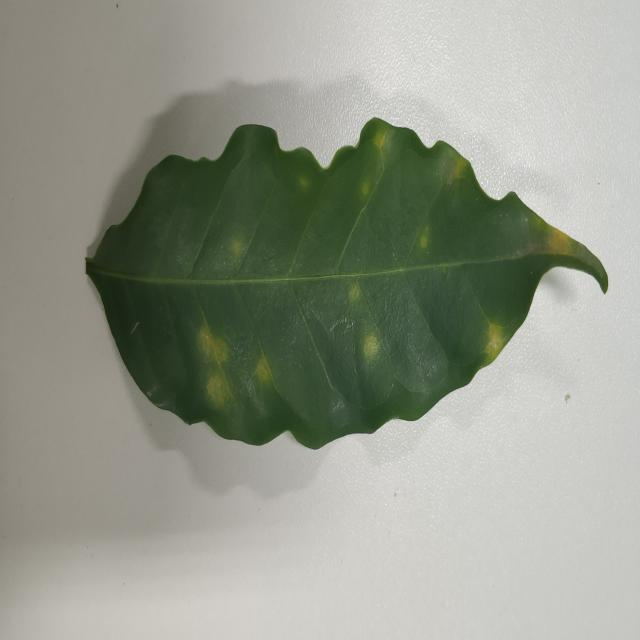Enfermedad-Roya: (84, 119, 612, 453)
